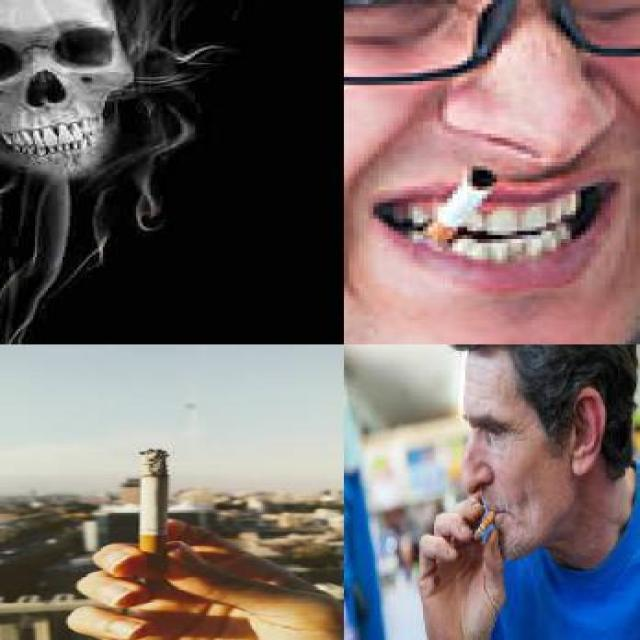smoking: (408, 158, 502, 235), (138, 448, 171, 574), (472, 510, 494, 541)
